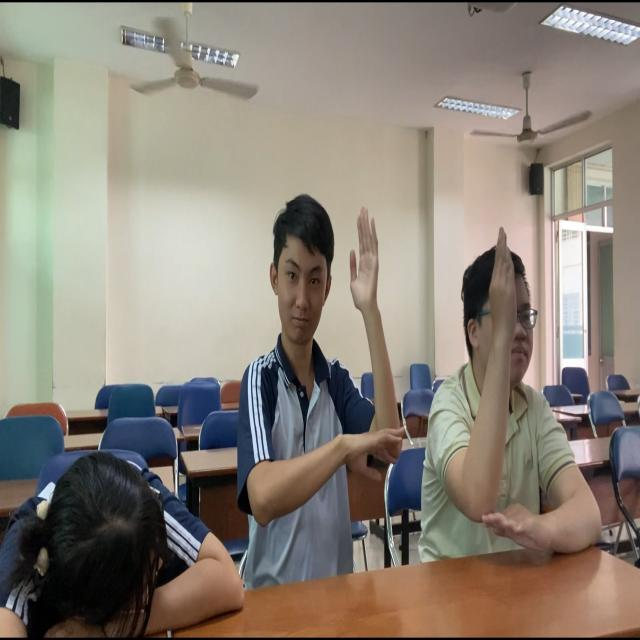raise_hand: (234, 191, 403, 576), (429, 231, 608, 561)
sleep: (1, 427, 246, 640)
